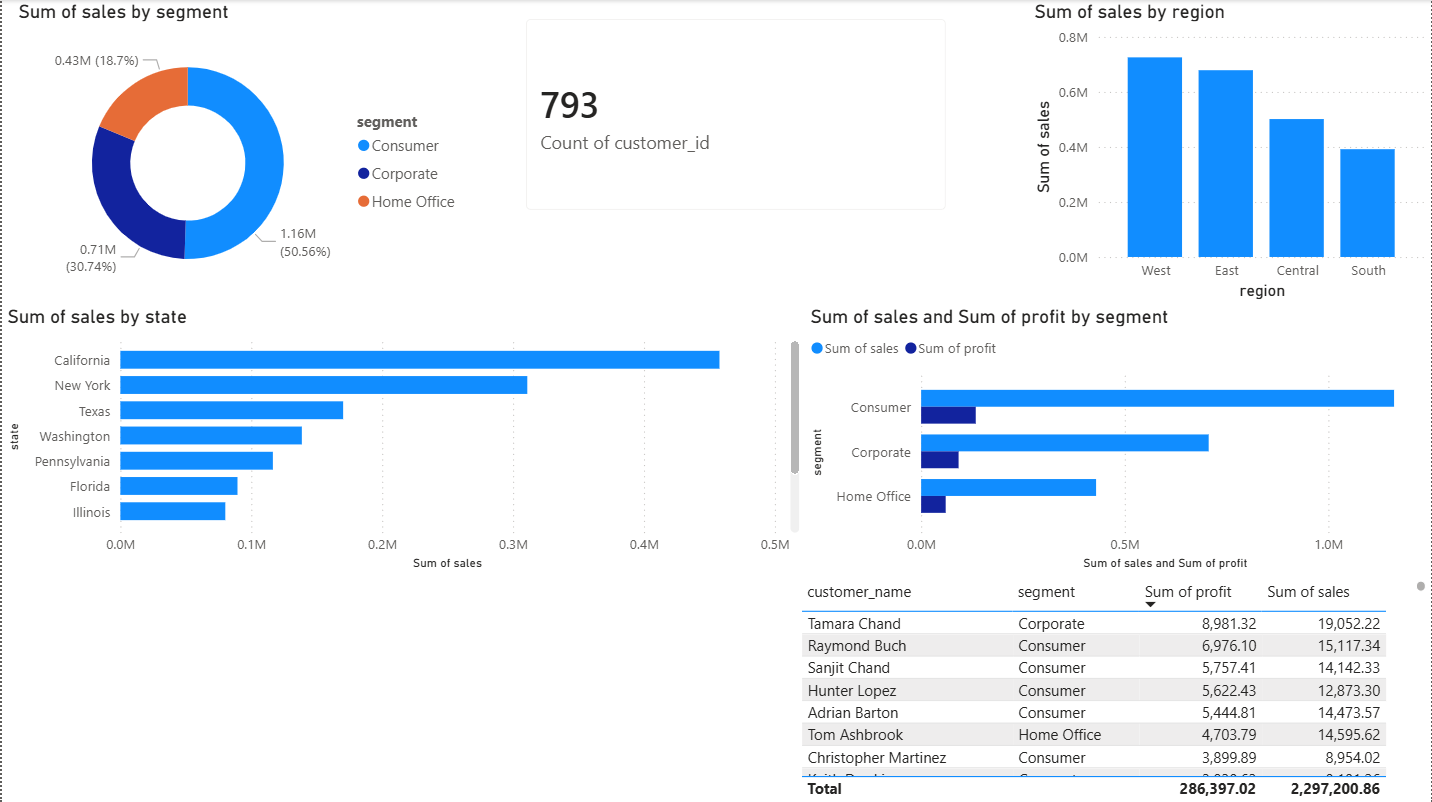

What the dashboard file says about the page in this screenshot:
{"tool":"powerbi","page":{"name":"Customer Analytics","canvas":[1280,720],"ordinal":2},"visuals":[{"type":"donutChart","fields":{"Category":["public orders.segment"],"Y":["Sum(public orders.sales)"]},"box":[9.9,0,410.1,273.1],"z":0},{"type":"clusteredColumnChart","fields":{"Category":["public orders.region"],"Y":["Sum(public orders.sales)"]},"box":[919.7,0,360,273.1],"z":1},{"type":"clusteredBarChart","fields":{"Category":["public orders.state"],"Y":["Sum(public orders.sales)"]},"box":[0,273.1,719.1,241.8],"z":2},{"type":"tableEx","fields":{"Values":["public orders.customer_name","public orders.segment","Sum(public orders.profit)","Sum(public orders.sales)"]},"box":[710.1,514.9,569.6,205.1],"z":3},{"type":"clusteredBarChart","fields":{"Category":["public orders.segment"],"Y":["Sum(public orders.sales)","Sum(public orders.profit)"]},"box":[719.1,273.1,560.6,241.8],"z":4},{"type":"cardVisual","fields":{"Data":["Count(public orders.customer_id)"]},"box":[452.2,0,410.1,205.1],"z":5}]}

Visuals, with their boxes in screenshot pixels (x1, y1, x2, y2), scaled from the page's 1280x720 canvas onto the 1432x802 screenshot:
donutChart - public orders.segment x Sum(public orders.sales): x1=11 y1=0 x2=470 y2=304
clusteredColumnChart - public orders.region x Sum(public orders.sales): x1=1029 y1=0 x2=1431 y2=304
clusteredBarChart - public orders.state x Sum(public orders.sales): x1=0 y1=304 x2=804 y2=574
tableEx - public orders.customer_name x public orders.segment: x1=794 y1=574 x2=1431 y2=801
clusteredBarChart - public orders.segment x Sum(public orders.sales): x1=804 y1=304 x2=1431 y2=574
cardVisual - Count(public orders.customer_id): x1=506 y1=0 x2=965 y2=228
